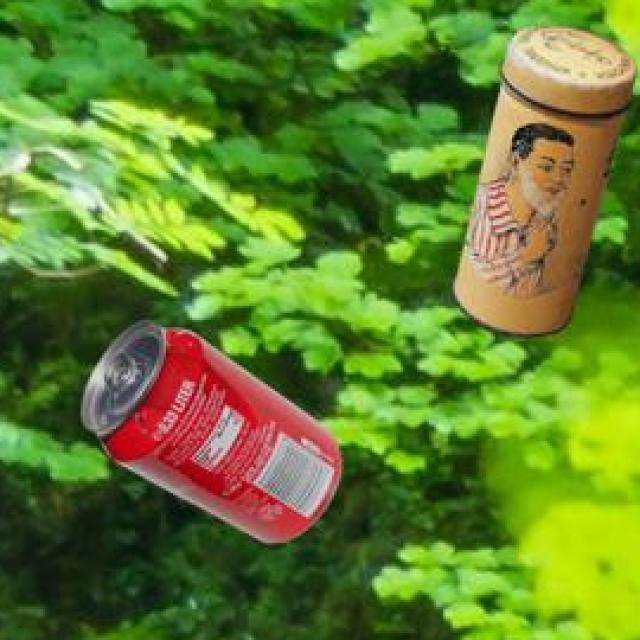logam: (77, 316, 338, 539), (449, 23, 632, 333)
